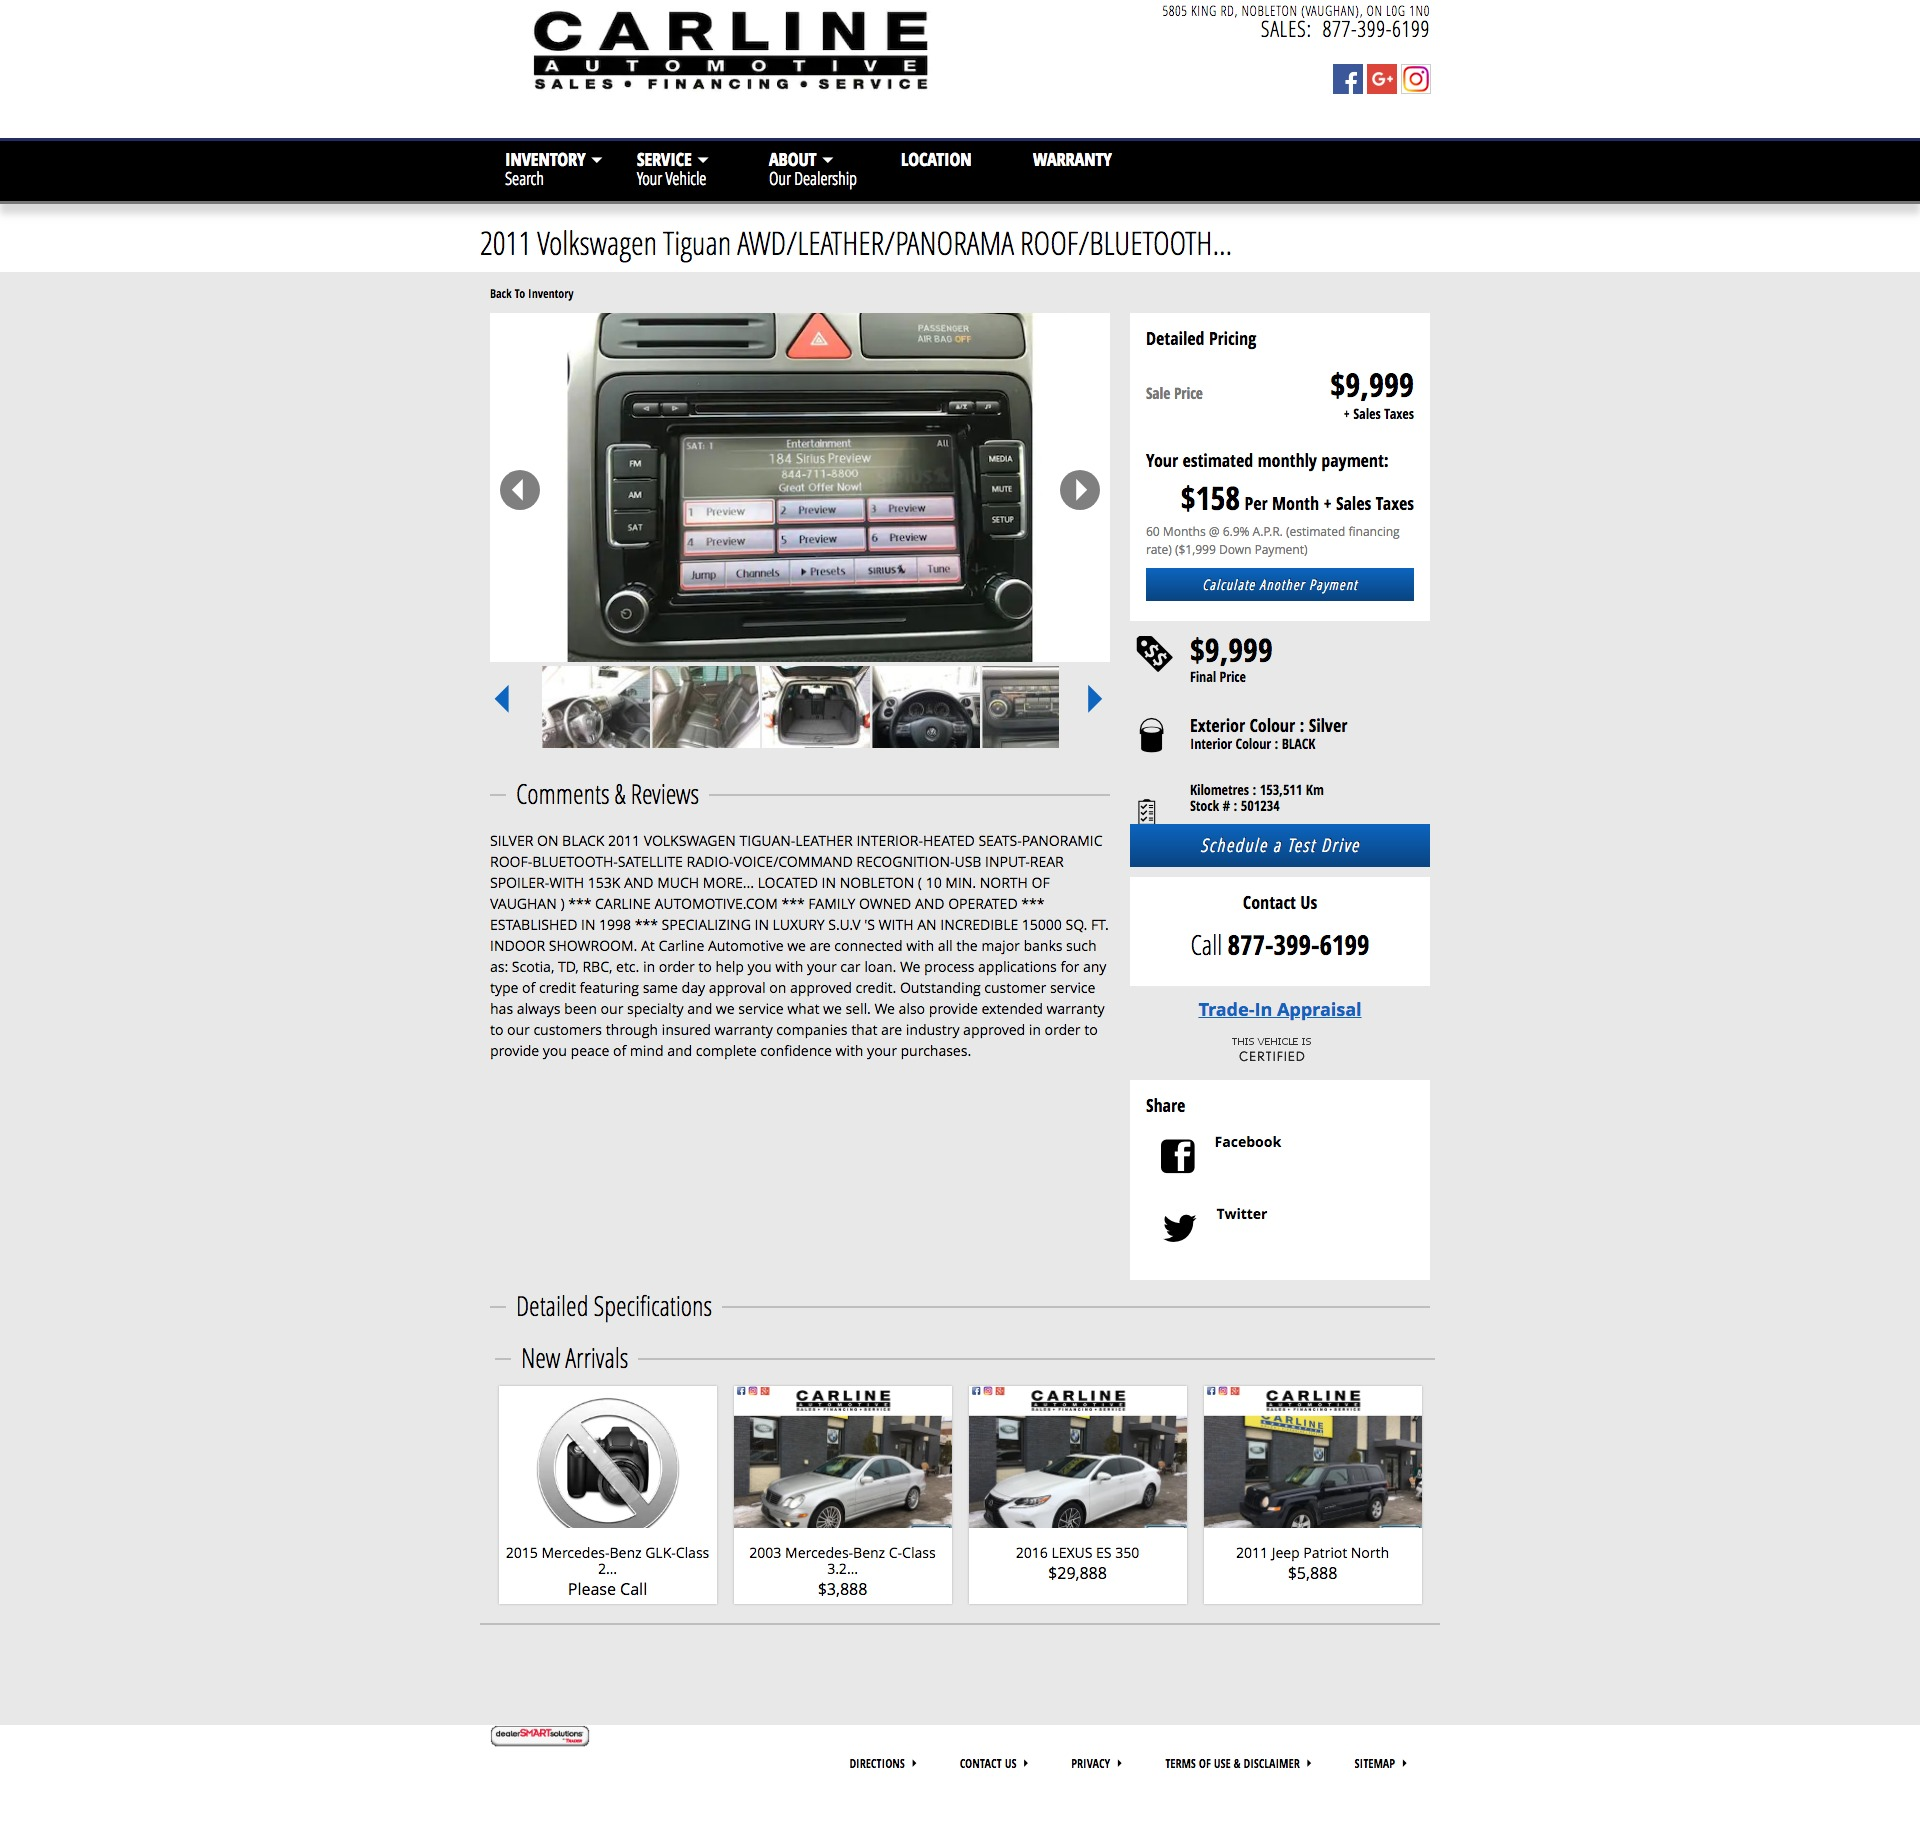car: (1087, 684, 1104, 716)
